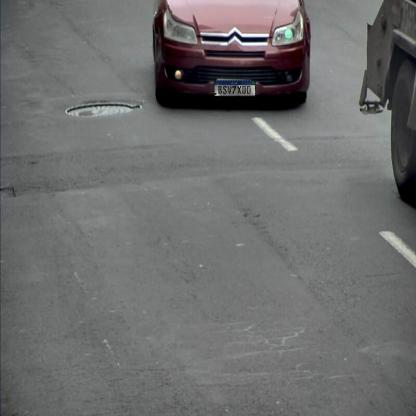PlacaM: (214, 80, 256, 96)
